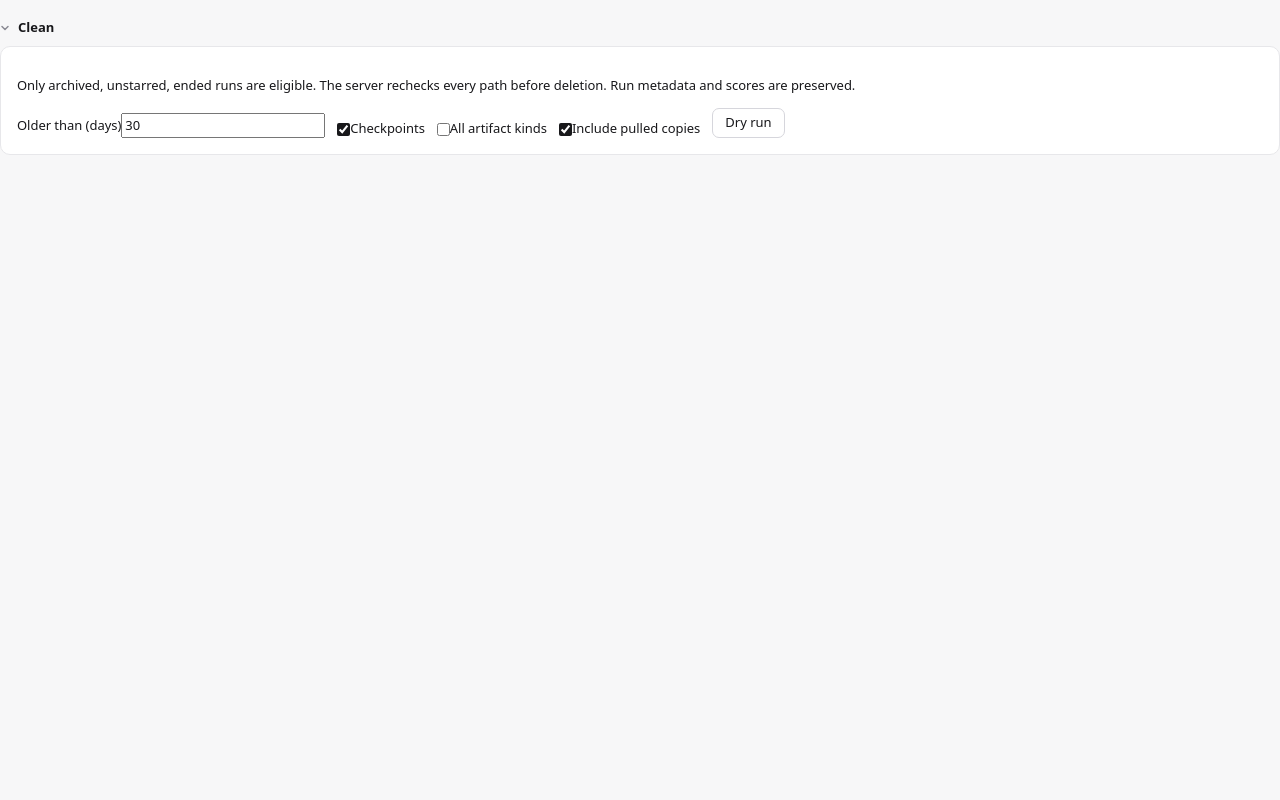
Test: dialog rechecks expiry without reopening
The width and height of the screenshot is (1280, 800).
Click the button "Dry run". click: (748, 123)
box: [712,108,785,138]
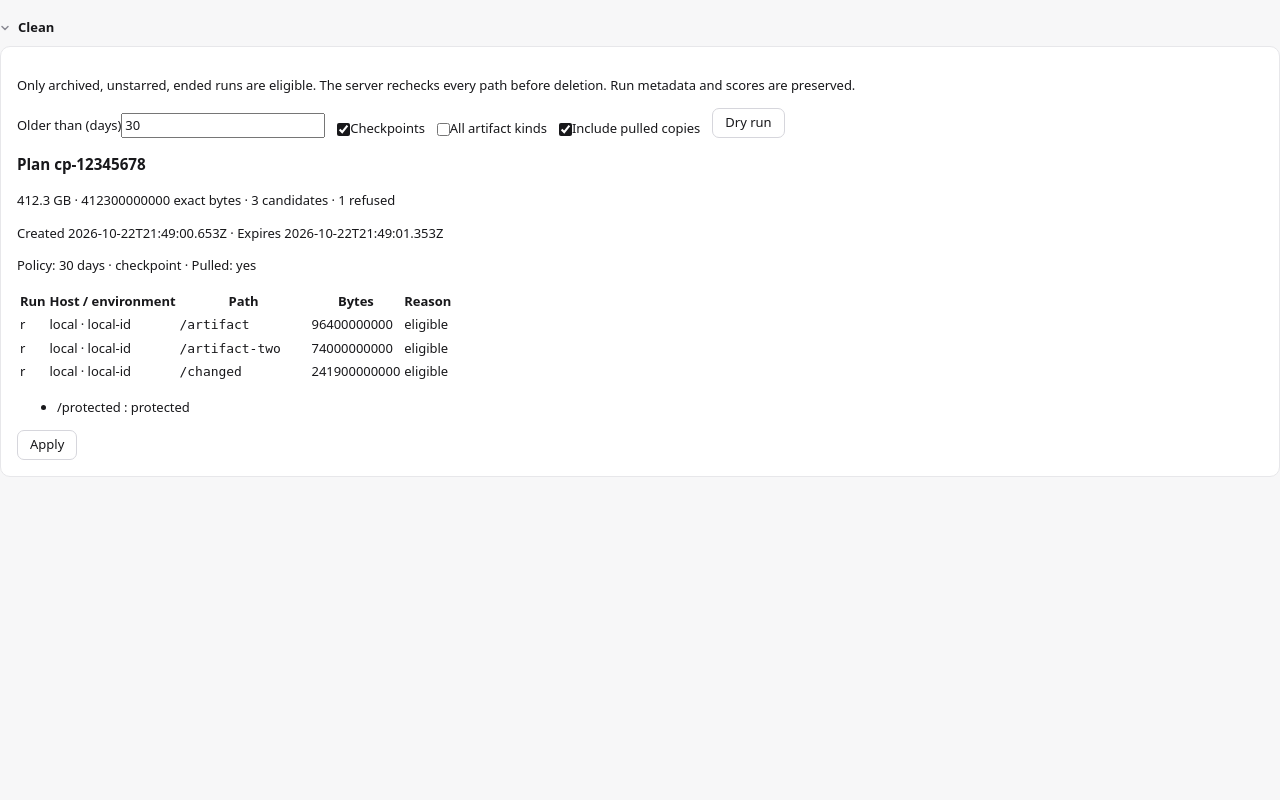
Click the button "Apply". click: (47, 445)
box: [17,430,77,460]
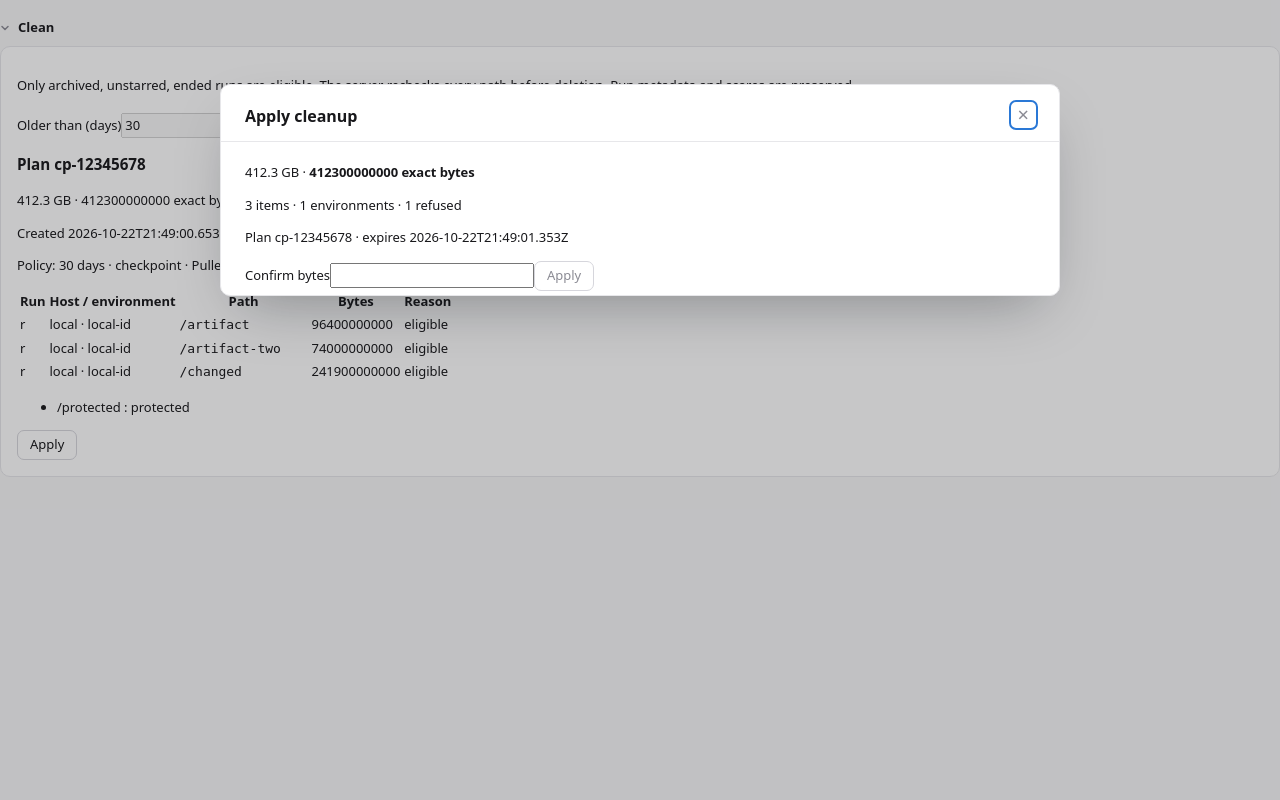
Type "412300000000" into the field labelled "Confirm bytes". click: (432, 276)
box: [330,263,534,288]
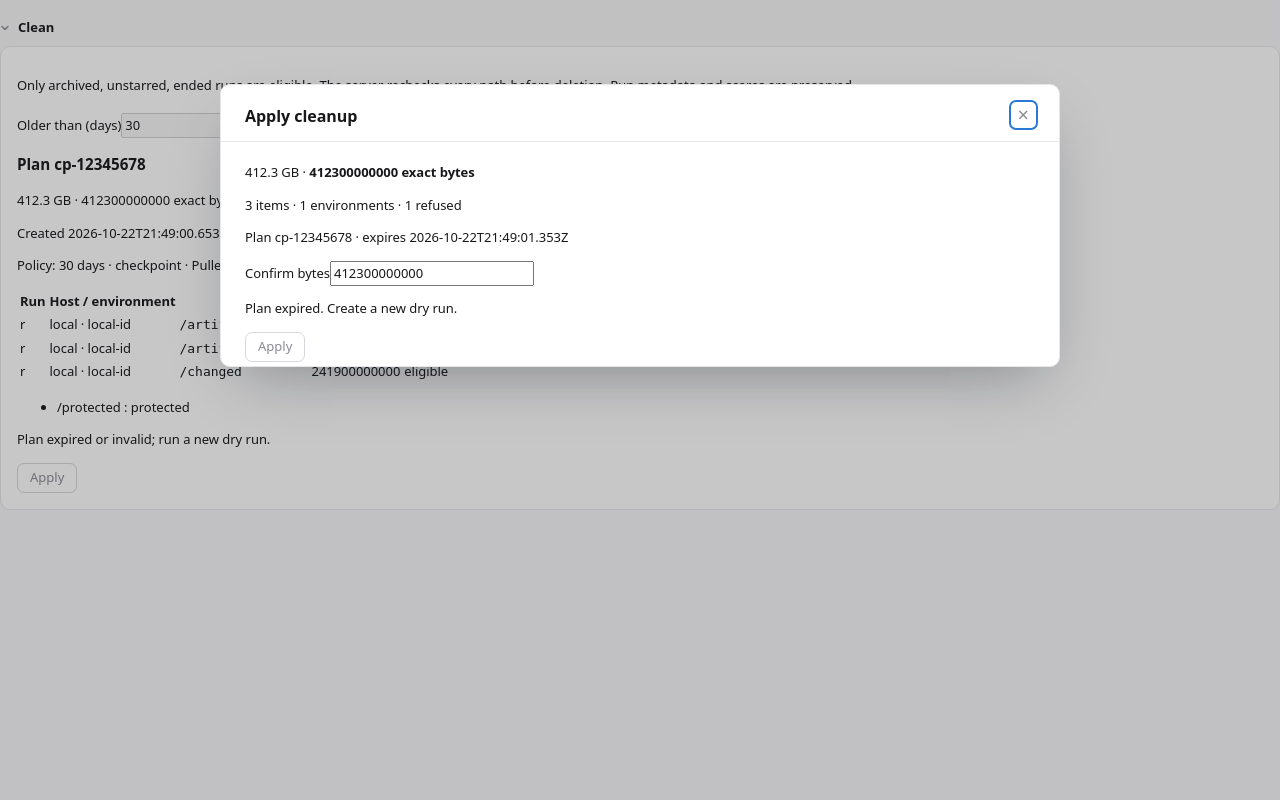
Result: the button "Apply" is disabled at [245,332,305,362]
Result: the text "Plan expired. Create a new dry run." is shown at [245,299,457,317]
